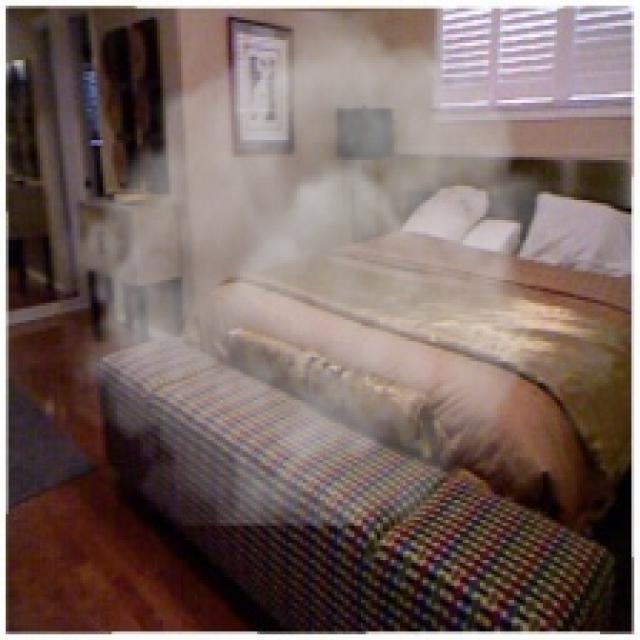smoke: (54, 11, 574, 526)
